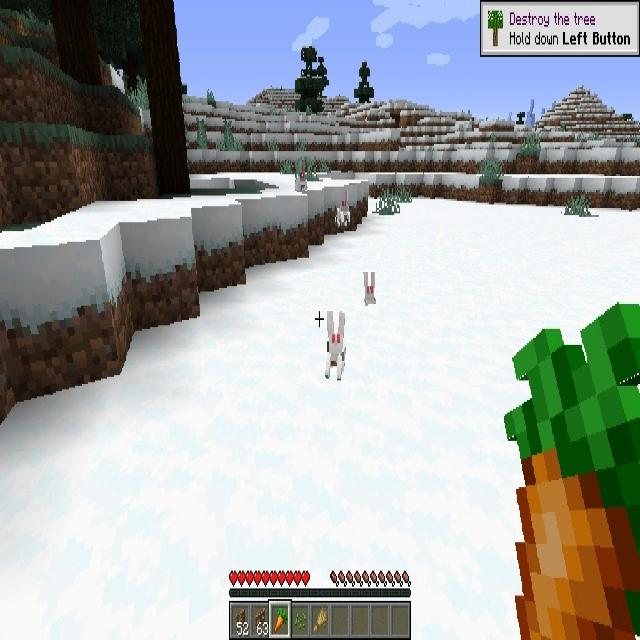rabbit: (323, 311, 345, 382), (336, 188, 350, 228), (363, 272, 377, 308), (295, 160, 307, 191)
